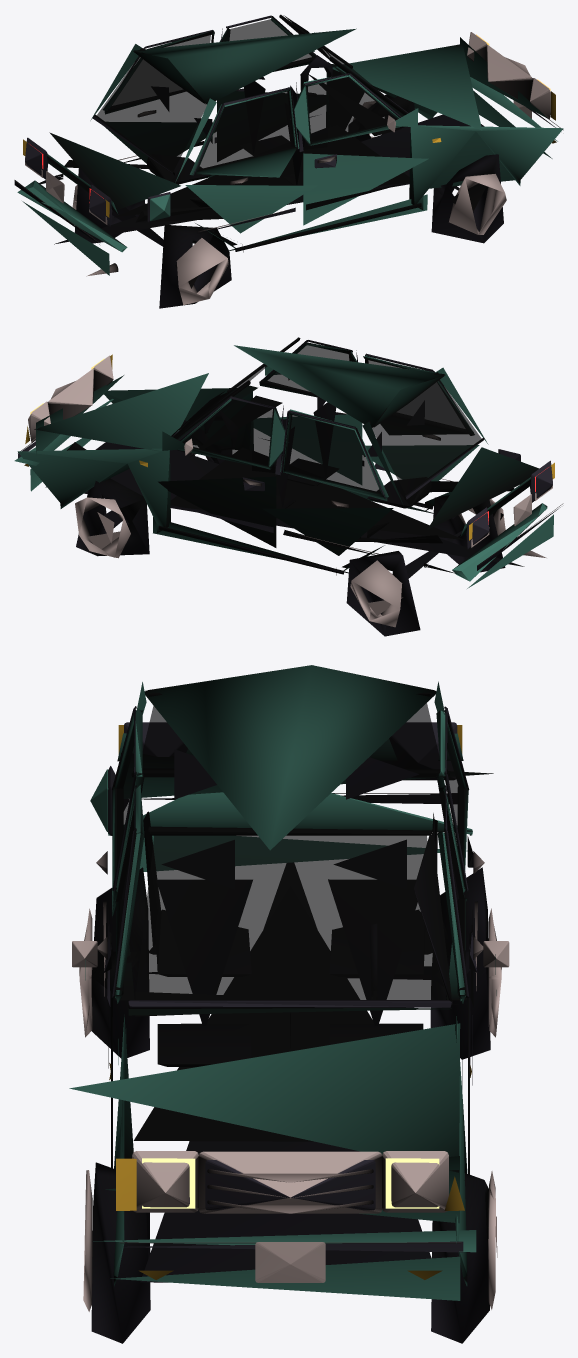
The model's file is veh.sedan-green.lod2.glb.
The picture shows the model from 3 angles, top to bottom: view 1: azimuth 30°, elevation 25°; view 2: azimuth 150°, elevation 25°; view 3: azimuth 270°, elevation 25°; orthographic projection. The views are drawn at different scales.
Visible parts, largest first — view 1: body, object 8, wheelRR, wheelFR, wheelRL, wheelFL; view 2: body, object 8, wheelRL, wheelFL, wheelRR, wheelFR; view 3: body, object 8, wheelFR, wheelRR, wheelRL, wheelFL, lightsFront.
Boxes of the visible parts, x1,y1,x2,y2 form: body: [14, 14, 563, 276]; object 8: [103, 15, 428, 233]; wheelRR: [159, 224, 231, 308]; wheelFR: [431, 154, 506, 243]; wheelRL: [72, 168, 145, 243]; wheelFL: [348, 94, 414, 141]; body: [14, 337, 563, 588]; object 8: [158, 340, 479, 556]; wheelRL: [346, 551, 420, 636]; wheelFL: [75, 478, 149, 558]; wheelRR: [433, 495, 505, 572]; wheelFR: [176, 420, 232, 464]; body: [69, 665, 493, 1300]; object 8: [72, 706, 509, 1089]; wheelFR: [83, 1162, 150, 1343]; wheelRR: [79, 867, 149, 1058]; wheelRL: [430, 867, 501, 1059]; wheelFL: [431, 1171, 497, 1343]; lightsFront: [116, 1158, 464, 1279].
Bounding box in the file's own units: 4.4 × 1.85 × 1.79.
